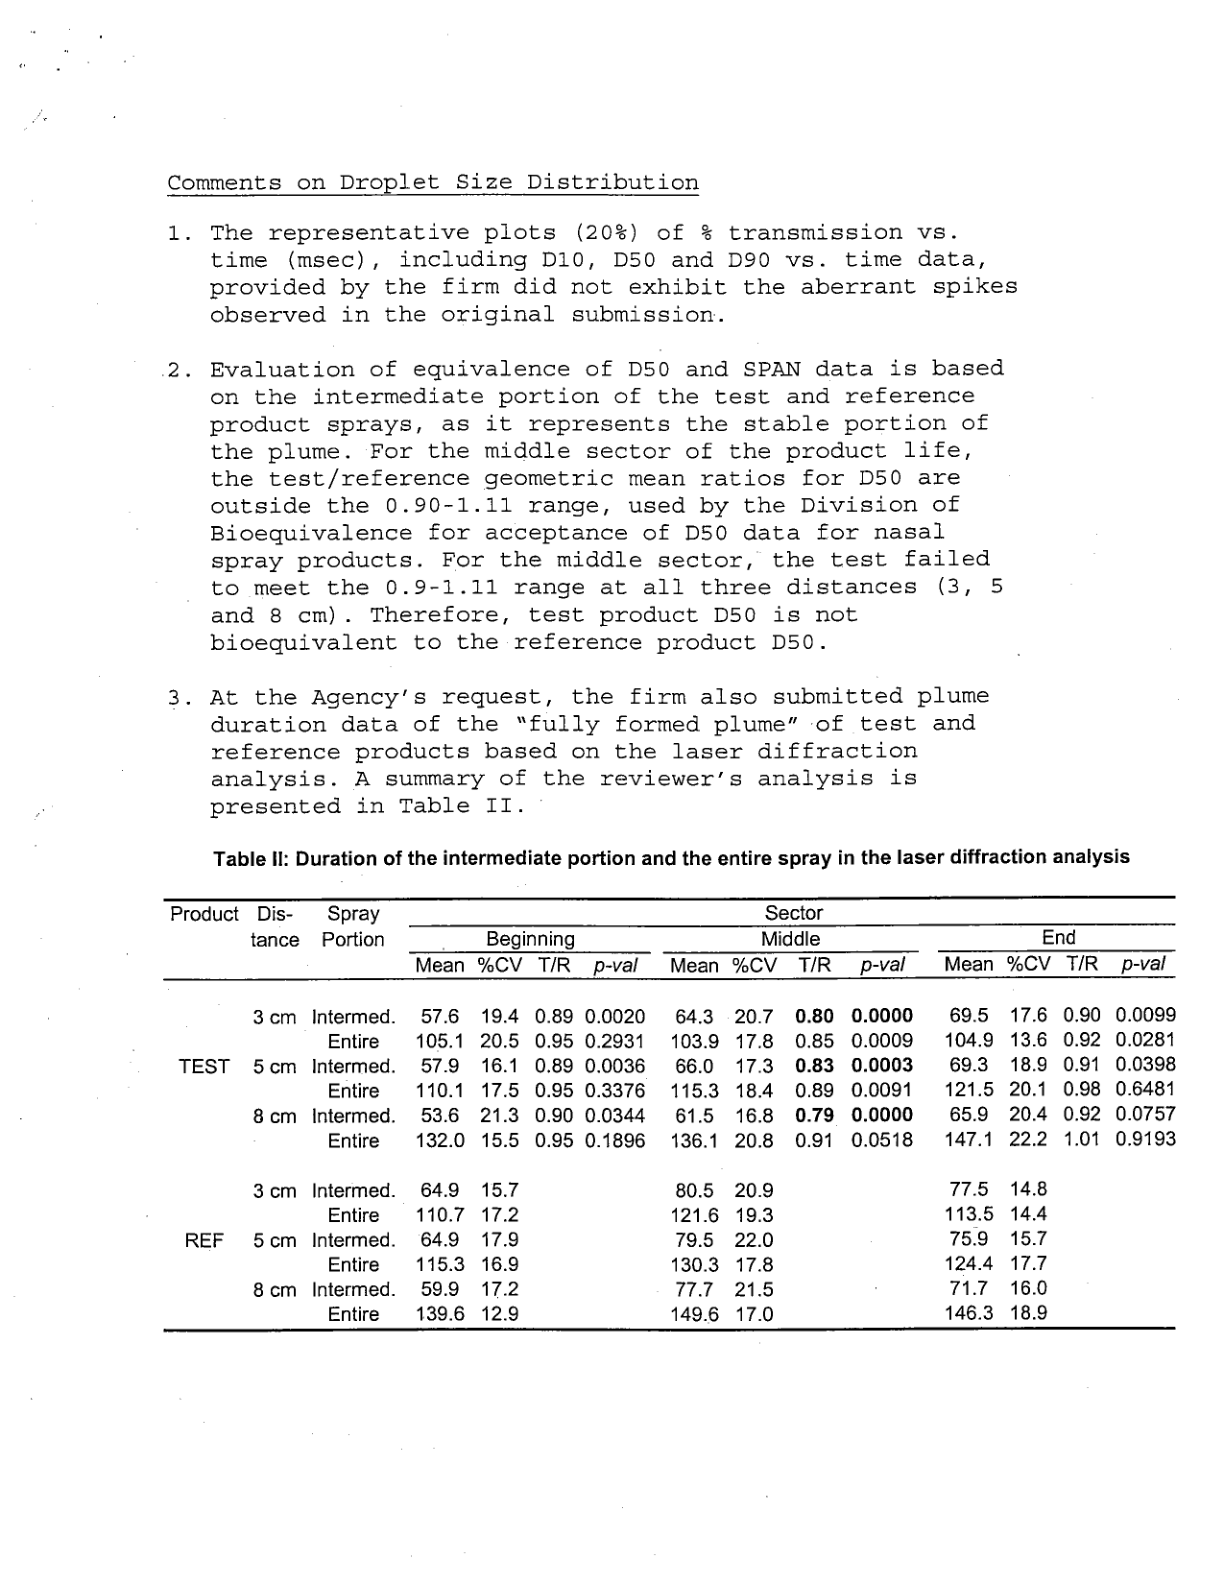partial_lined_merged_cells: (161, 896, 1180, 1335)
